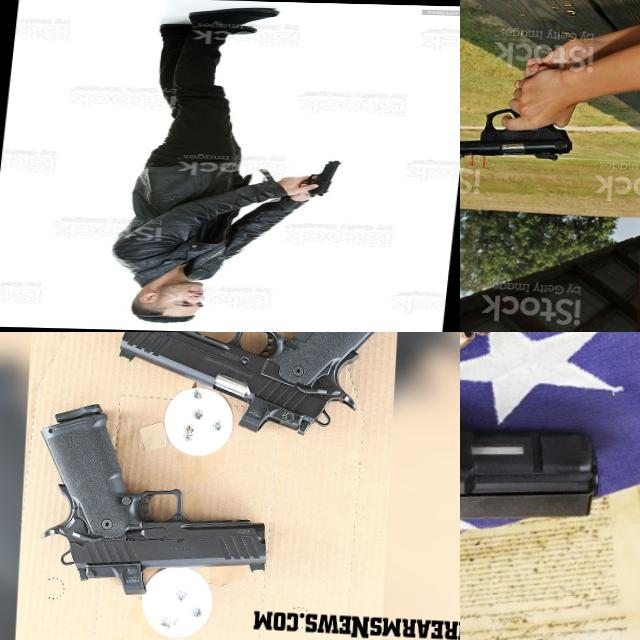handgun: (28, 396, 274, 602), (460, 332, 640, 551), (111, 332, 397, 444), (460, 55, 576, 169), (293, 158, 342, 198)
